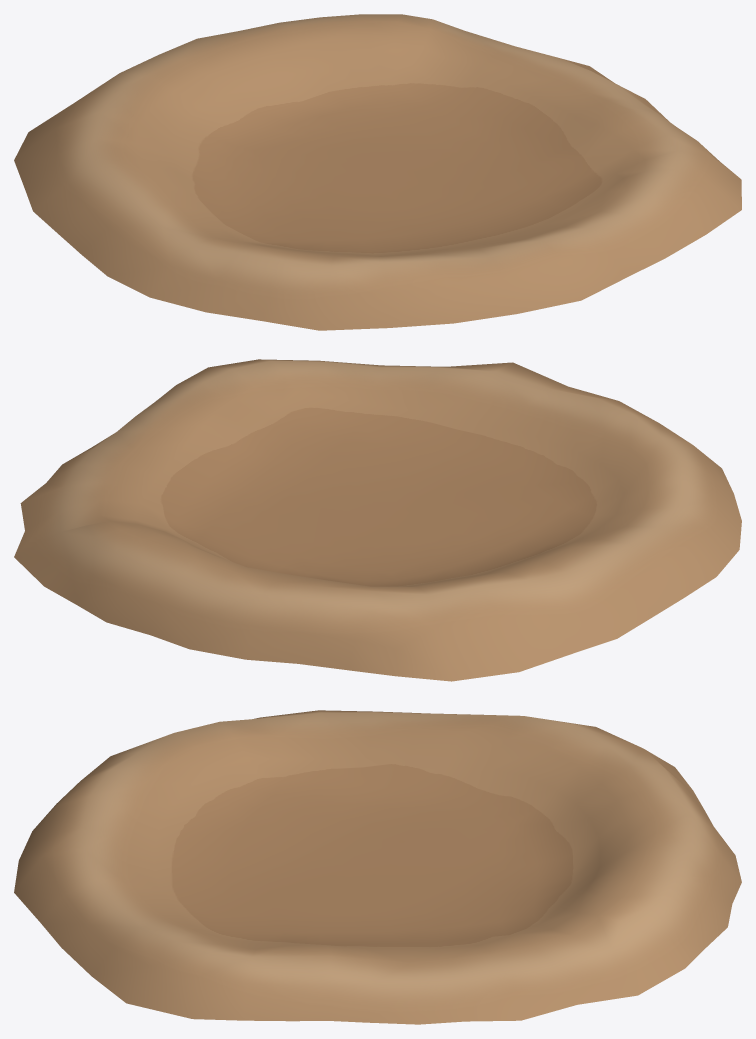
Rendered from SM_DugupSpot.fbx.
3 views of the same model, one above another, from view 1: azimuth 30°, elevation 25°; view 2: azimuth 150°, elevation 25°; view 3: azimuth 270°, elevation 25° (orthographic). The views are drawn at different scales.
Visible parts, largest first — view 1: SM_DugTile; view 2: SM_DugTile; view 3: SM_DugTile.
Part boxes in pixels (bbox=[...]): SM_DugTile: bbox=[14, 14, 741, 330]; SM_DugTile: bbox=[14, 359, 741, 681]; SM_DugTile: bbox=[14, 710, 741, 1024].
Size of the model in its own units: 94.53 by 7.85 by 95.82.
1 material, 1 textured.
